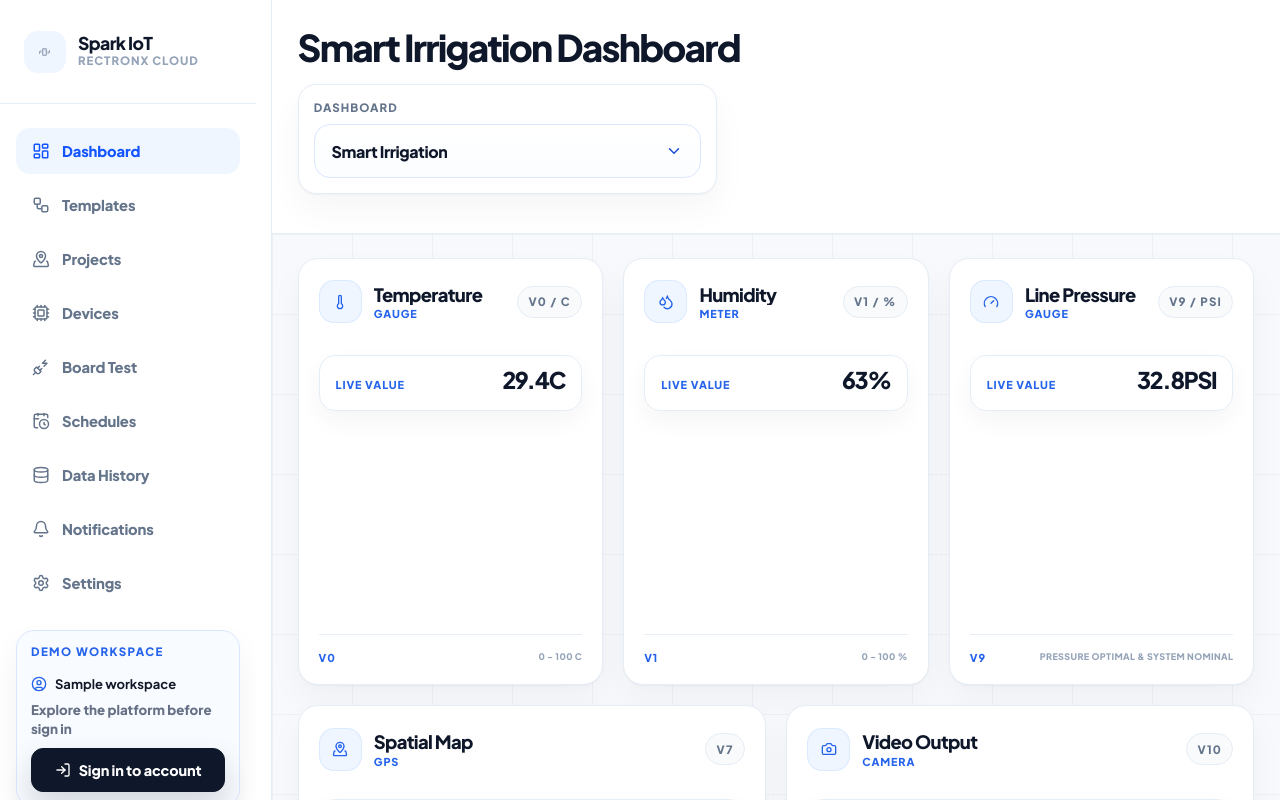
Scenario: App › opens directly on the Spark IoT dashboard without login
Expected: the heading "Smart Irrigation Dashboard" is shown, [298,24,740,70]
Expected: the text "Live value" next to "29.4" is shown, [336,378,405,392]
Click the button named "Dashboard project selector" at (389, 151), box [314,124,701,178]
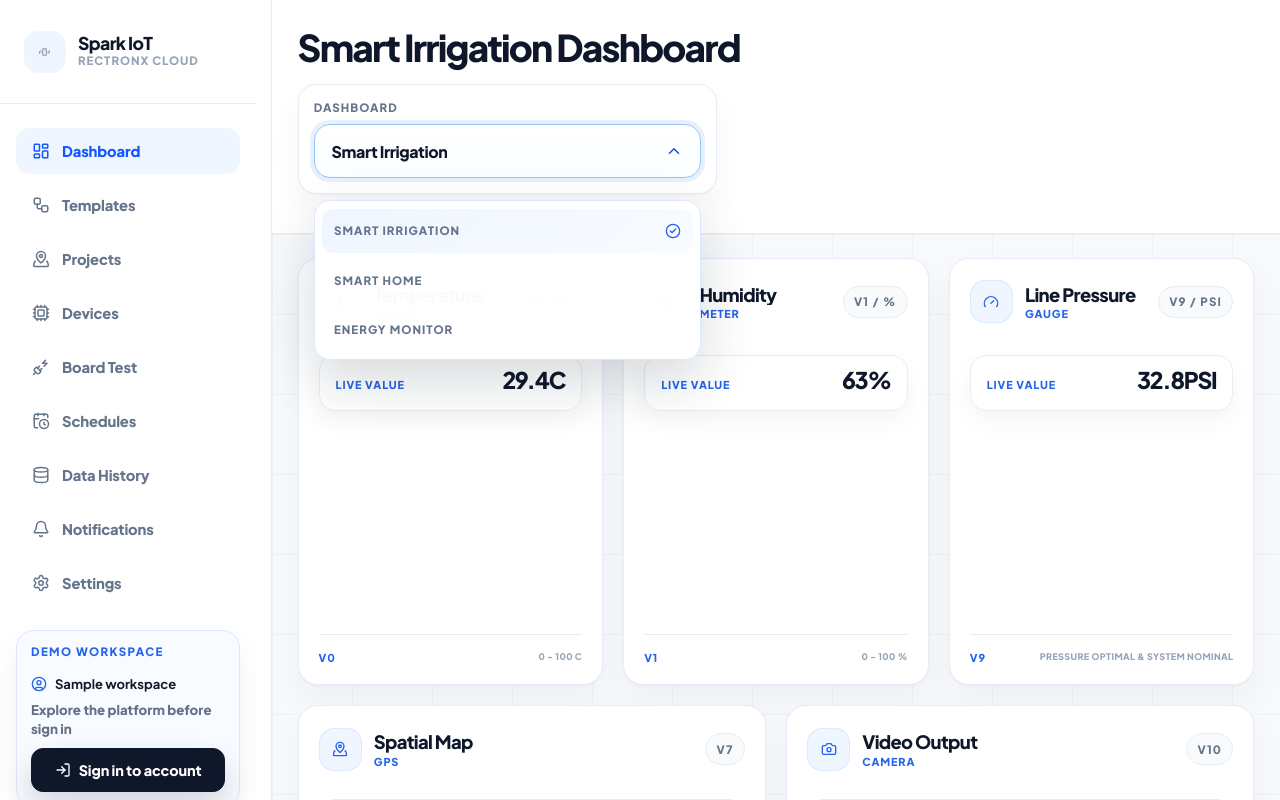
Click the option "Energy Monitor" at (394, 330), box [322,308,693,352]
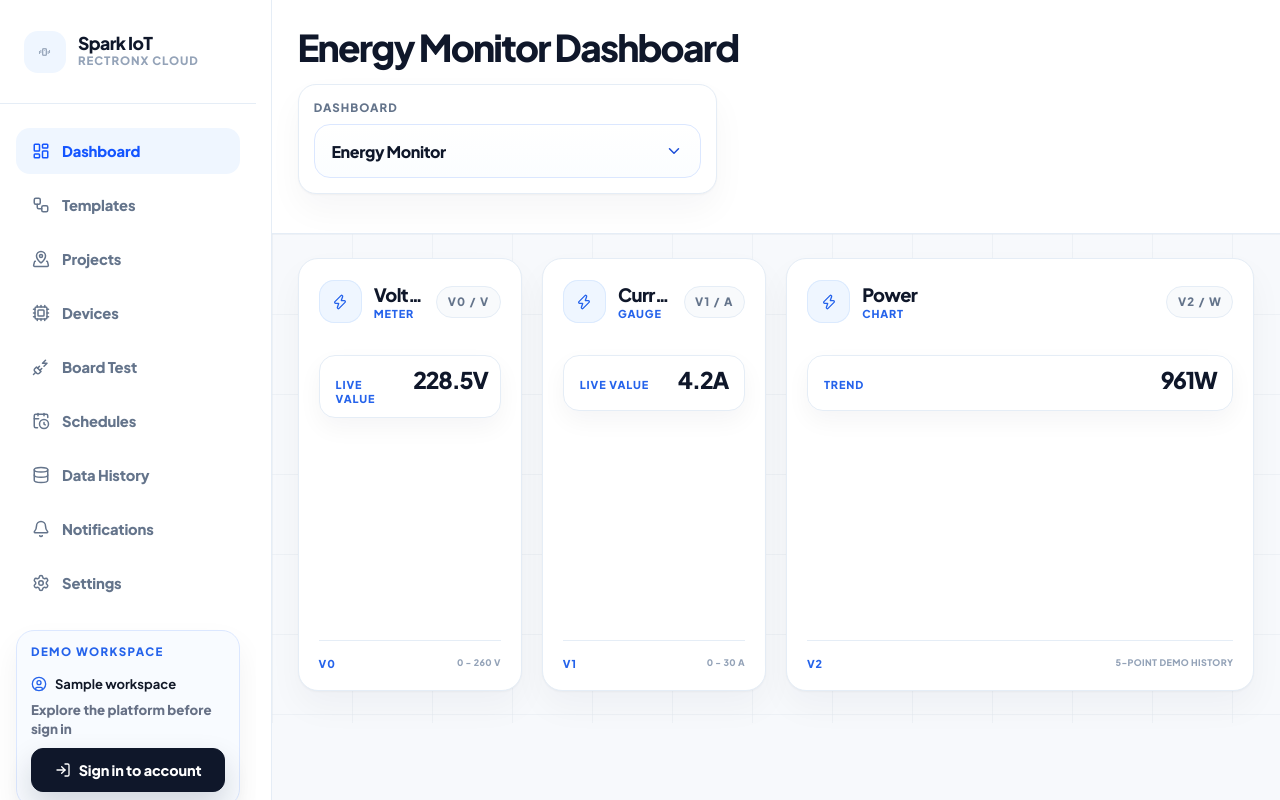
Expected: the navigation bar named "Main navigation" shows "Settings", [16,560,240,606]
Expected: the heading "Energy Monitor Dashboard" is shown, [298,24,738,70]
